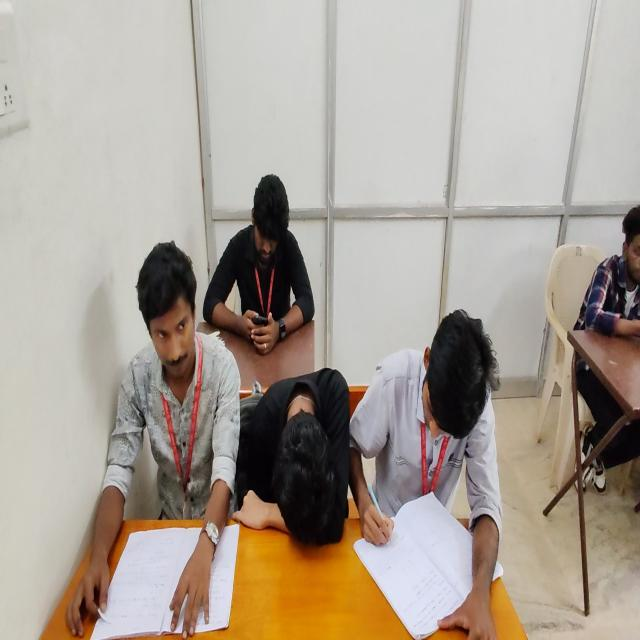reading: (67, 240, 243, 639)
sleeping: (231, 359, 349, 545)
using_mobile: (569, 200, 640, 499), (202, 173, 315, 353)
writing: (353, 311, 493, 640)
